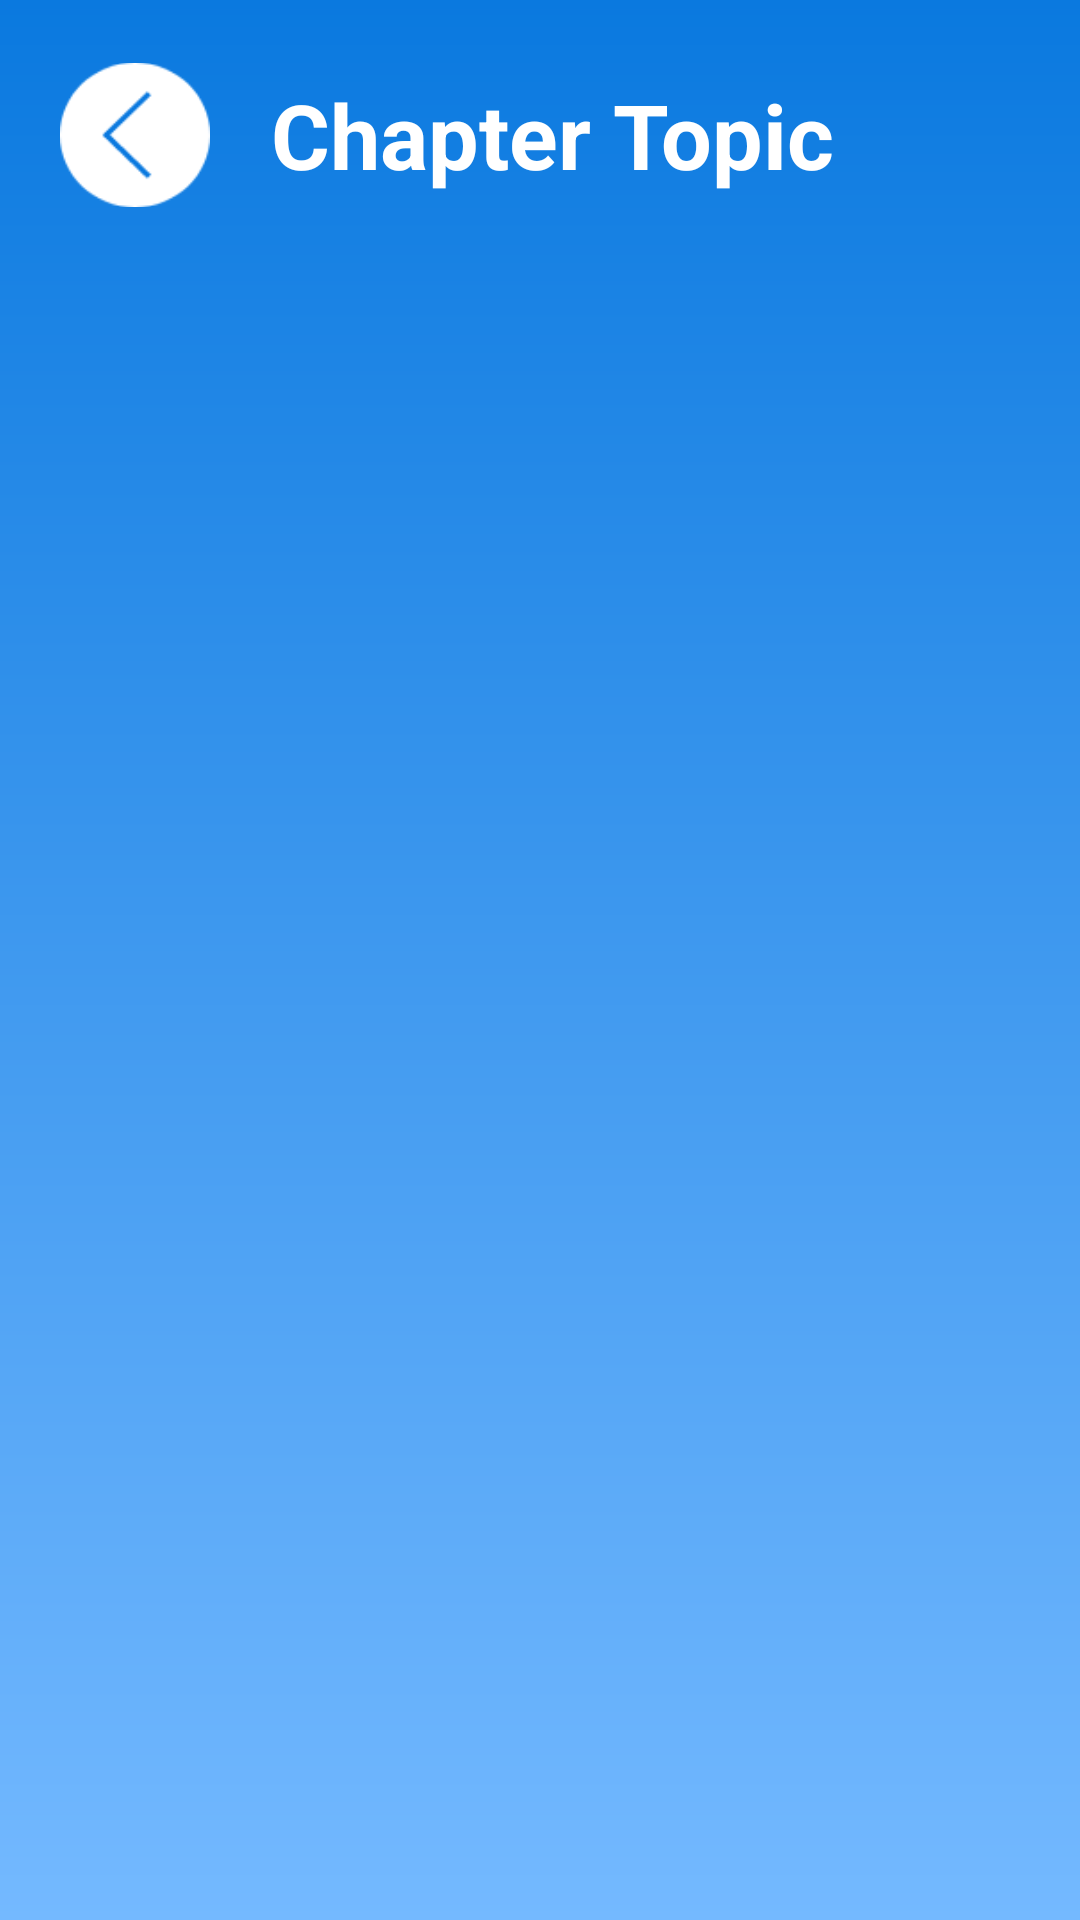

Icons on this 1080 × 1920 Android screen, each with the point to tap as (x=x, y=y):
backiconwhite: (x=135, y=135)
